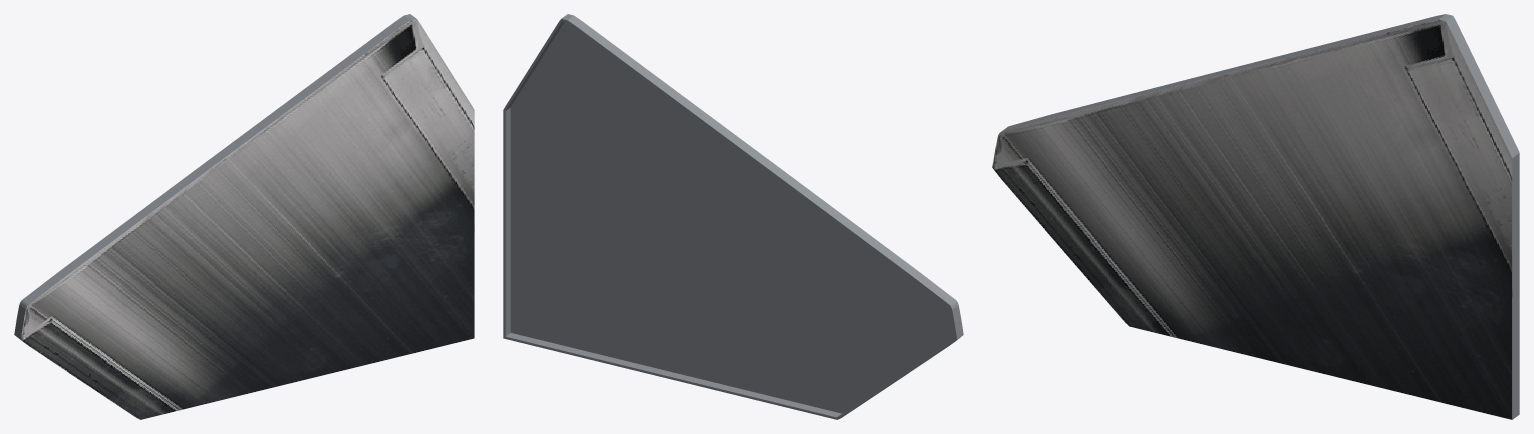
The picture shows the model from 3 angles, left to right: view 1: azimuth 30°, elevation 25°; view 2: azimuth 150°, elevation 25°; view 3: azimuth 330°, elevation 25°; orthographic projection. The views are drawn at different scales.
Parts seen in each view (by area): view 1: cat_4dc80d5dbf0444f7; view 2: cat_4dc80d5dbf0444f7; view 3: cat_4dc80d5dbf0444f7.
Part boxes in pixels (bbox=[...]): cat_4dc80d5dbf0444f7: bbox=[14, 14, 474, 419]; cat_4dc80d5dbf0444f7: bbox=[503, 14, 963, 419]; cat_4dc80d5dbf0444f7: bbox=[992, 14, 1519, 419].
Size of the model in its own units: 0.6 by 0.015 by 0.4217.
Materials: 2 (1 with a texture image).
